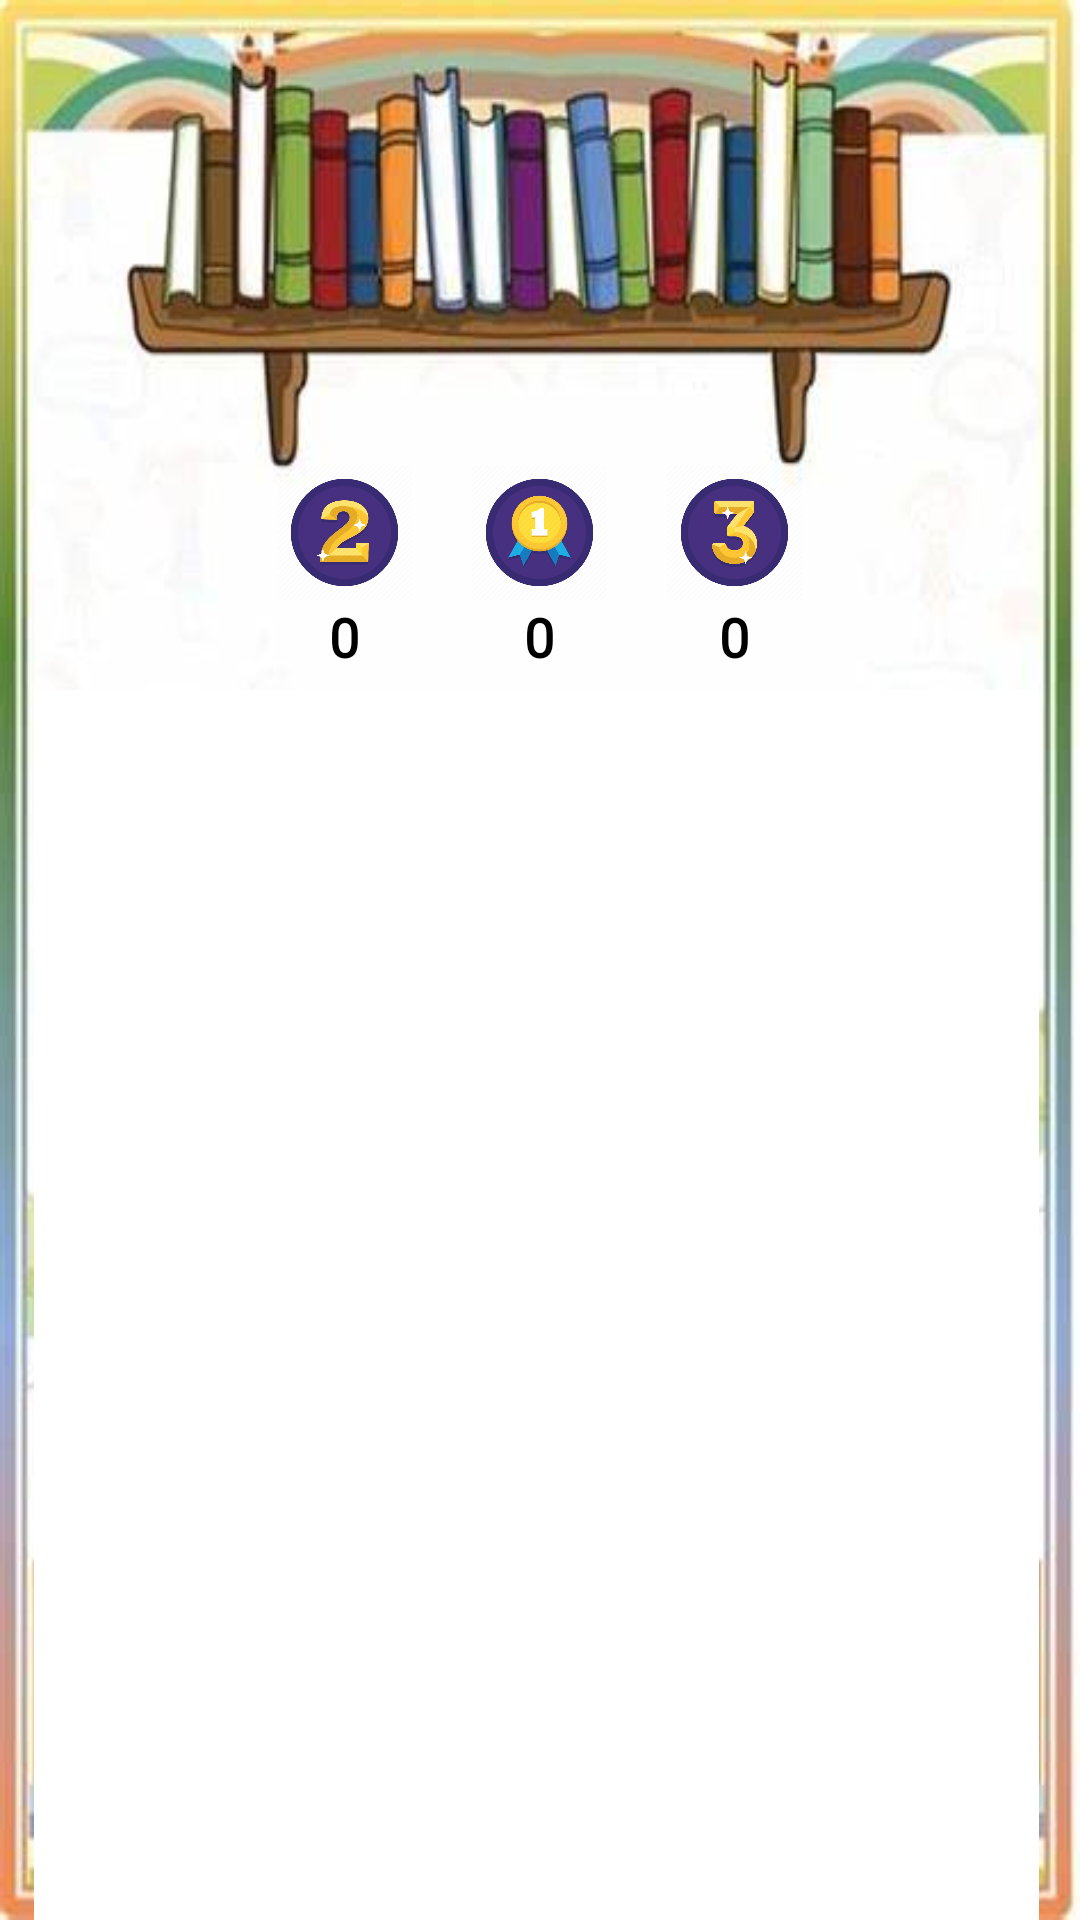

Named icons in this screenshot (1080w x 1920h) and their bounding boxes, [x1,y1,x2,y2]:
rank: [291,479,398,586], [486,479,593,586], [681,479,788,586]
